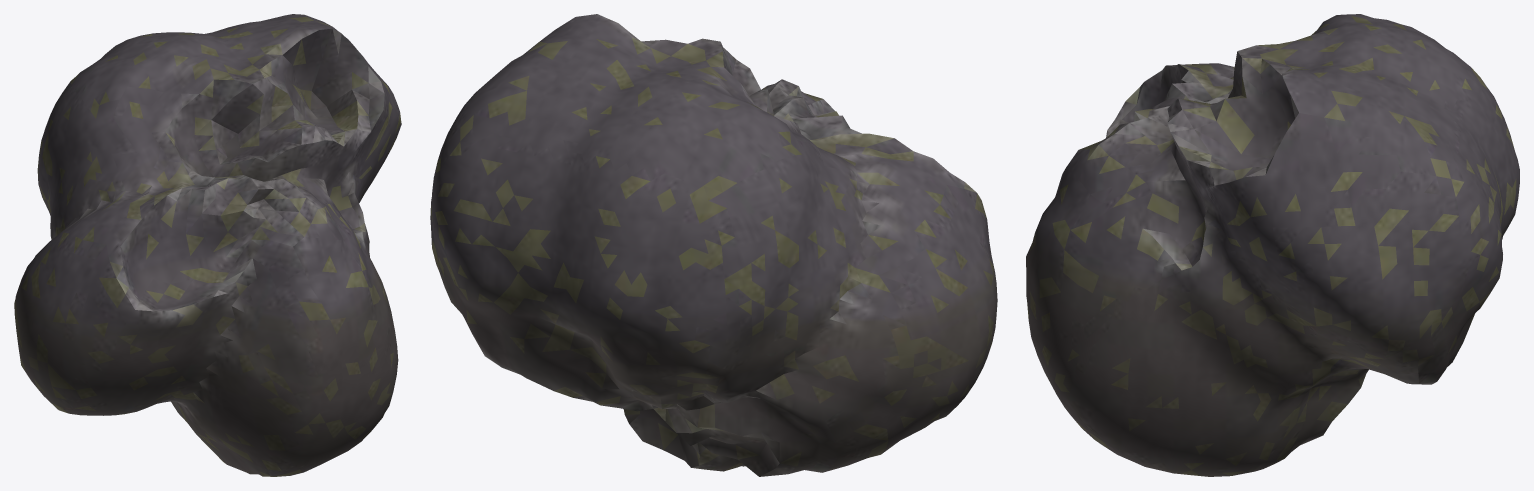
File: big-carbonic-asteroid.glb
3 views of the same model, side by side, from view 1: azimuth 30°, elevation 25°; view 2: azimuth 150°, elevation 25°; view 3: azimuth 270°, elevation 25° (orthographic). The views are drawn at different scales.
Parts seen in each view (by area): view 1: body; view 2: body; view 3: body.
Part boxes in pixels (x1=…): body: x1=14, y1=14, x2=401, y2=476; body: x1=430, y1=14, x2=997, y2=476; body: x1=1026, y1=14, x2=1519, y2=476.
Size of the model in its own units: 5.22 by 4.66 by 4.81.
Materials: 1 (1 with a texture image).
